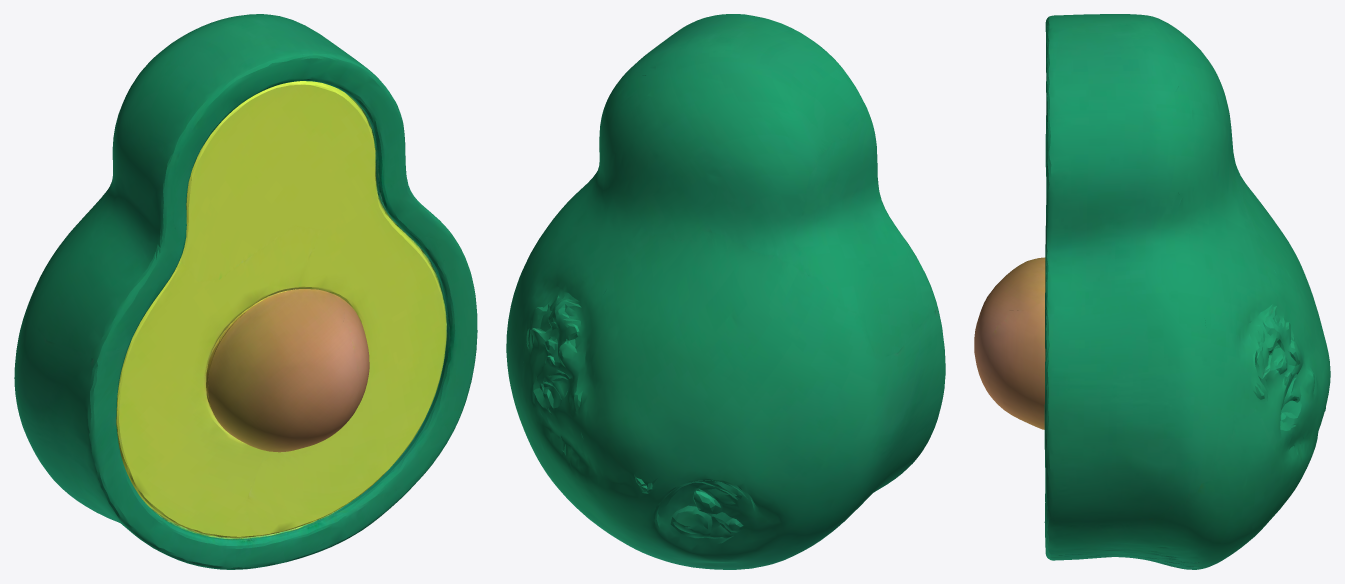
The model's file is avocado.glb.
The picture shows the model from 3 angles, left to right: view 1: azimuth 30°, elevation 25°; view 2: azimuth 150°, elevation 25°; view 3: azimuth 270°, elevation 25°; orthographic projection. The views are drawn at different scales.
Visible parts, largest first — view 1: model; view 2: model; view 3: model.
Boxes of the visible parts, x1=… form: model: x1=14, y1=14, x2=477, y2=569; model: x1=506, y1=14, x2=945, y2=569; model: x1=974, y1=14, x2=1330, y2=569.
Size of the model in its own units: 0.7817 by 1 by 0.6174.
Materials: 1 (1 with a texture image).
